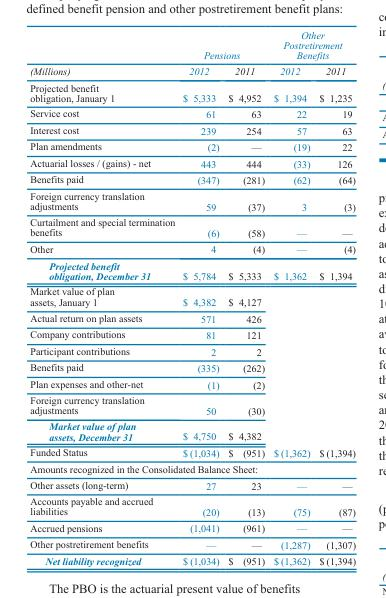table: (29, 28, 355, 566)
table column: (29, 28, 178, 566), (178, 28, 223, 566), (223, 28, 268, 566), (268, 28, 313, 566), (313, 28, 355, 566)
table column header: (29, 28, 355, 79)
table projected row header: (29, 460, 355, 476)
table row: (29, 28, 355, 62), (29, 213, 355, 240), (29, 391, 355, 418), (29, 492, 355, 519), (29, 79, 355, 105), (29, 187, 355, 213), (29, 257, 355, 283), (29, 283, 355, 309), (29, 418, 355, 443), (29, 62, 355, 79), (29, 121, 355, 138), (29, 170, 355, 187), (29, 240, 355, 257), (29, 309, 355, 326), (29, 342, 355, 359), (29, 443, 355, 460), (29, 535, 355, 552), (29, 105, 355, 121), (29, 138, 355, 154), (29, 154, 355, 170), (29, 326, 355, 342), (29, 359, 355, 375), (29, 375, 355, 391), (29, 460, 355, 476), (29, 476, 355, 492), (29, 519, 355, 535), (29, 552, 355, 566)
table spanning cell: (29, 28, 178, 79), (178, 28, 268, 62), (268, 28, 355, 62)
